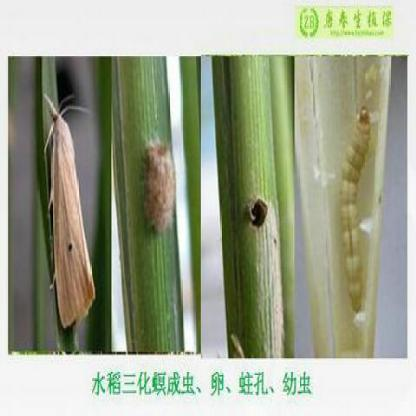stem-borer: (42, 90, 96, 335)
